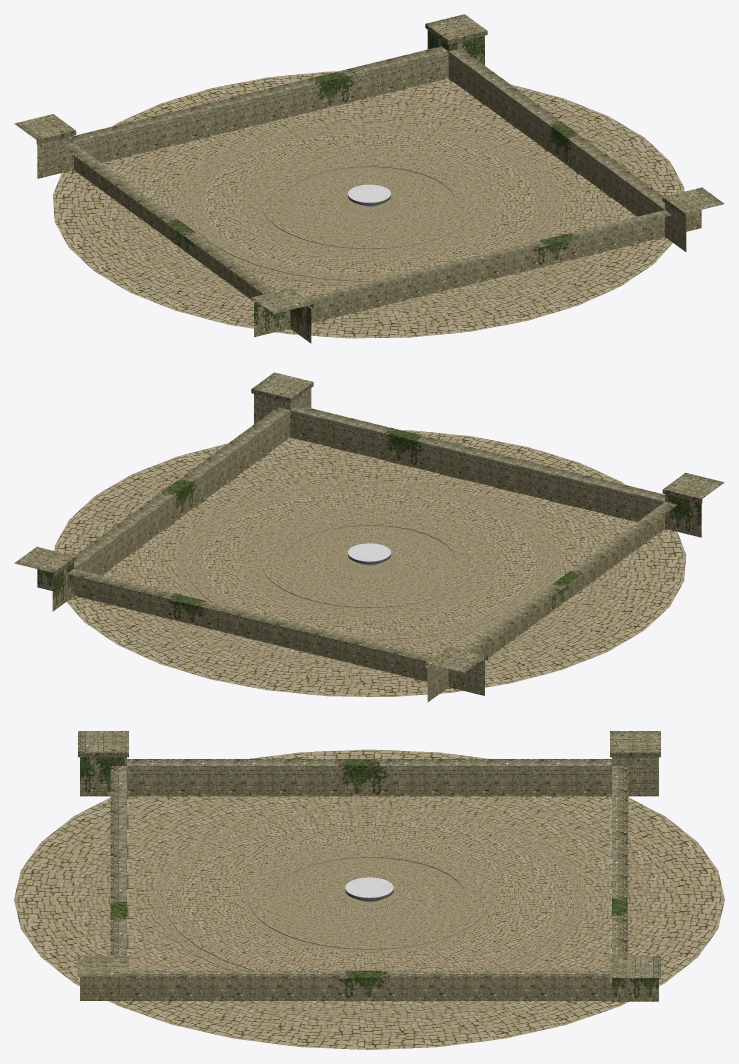
Rendered from Arena.dae.
The picture shows the model from 3 angles, top to bottom: view 1: azimuth 30°, elevation 25°; view 2: azimuth 150°, elevation 25°; view 3: azimuth 270°, elevation 25°; orthographic projection. The views are drawn at different scales.
Visible parts, largest first — view 1: pPipe1, pCube1, pCube3 (×4), pCylinder1; view 2: pPipe1, pCube1, pCube3 (×4), pCylinder1; view 3: pPipe1, pCube1, pCube3 (×4), pCylinder1.
Boxes of the visible parts, x1=… form: pPipe1: x1=52, y1=71, x2=684, y2=338; pCube1: x1=61, y1=46, x2=671, y2=323; pCube3 (×4): x1=14, y1=14, x2=724, y2=343; pCylinder1: x1=348, y1=184, x2=390, y2=207; pPipe1: x1=54, y1=430, x2=686, y2=696; pCube1: x1=67, y1=405, x2=677, y2=681; pCube3 (×4): x1=14, y1=372, x2=724, y2=702; pCylinder1: x1=348, y1=543, x2=390, y2=565; pPipe1: x1=14, y1=749, x2=724, y2=1049; pCube1: x1=110, y1=759, x2=628, y2=1000; pCube3 (×4): x1=78, y1=731, x2=660, y2=1001; pCylinder1: x1=345, y1=877, x2=393, y2=902.
Bounding box in the file's own units: 58.66 × 4.23 × 58.66.
